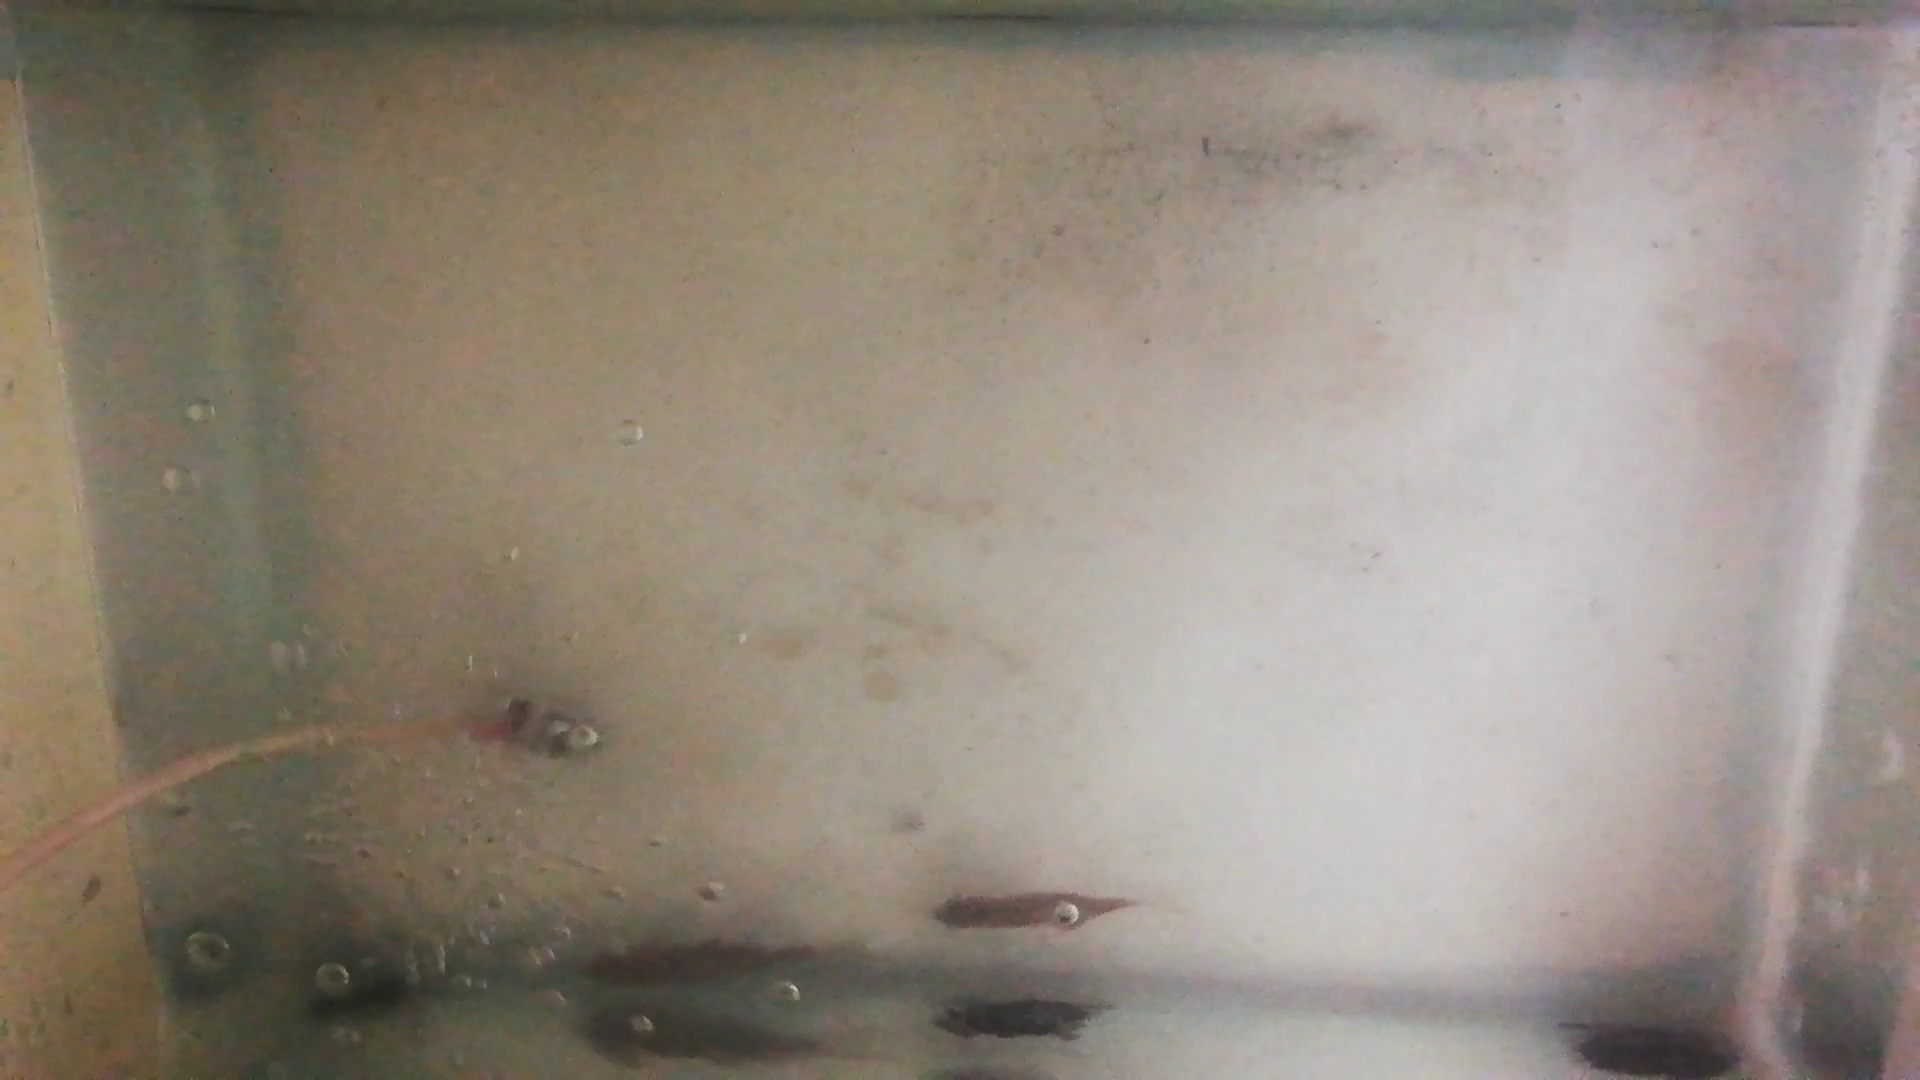fish: (575, 942, 820, 988), (928, 887, 1134, 928)
